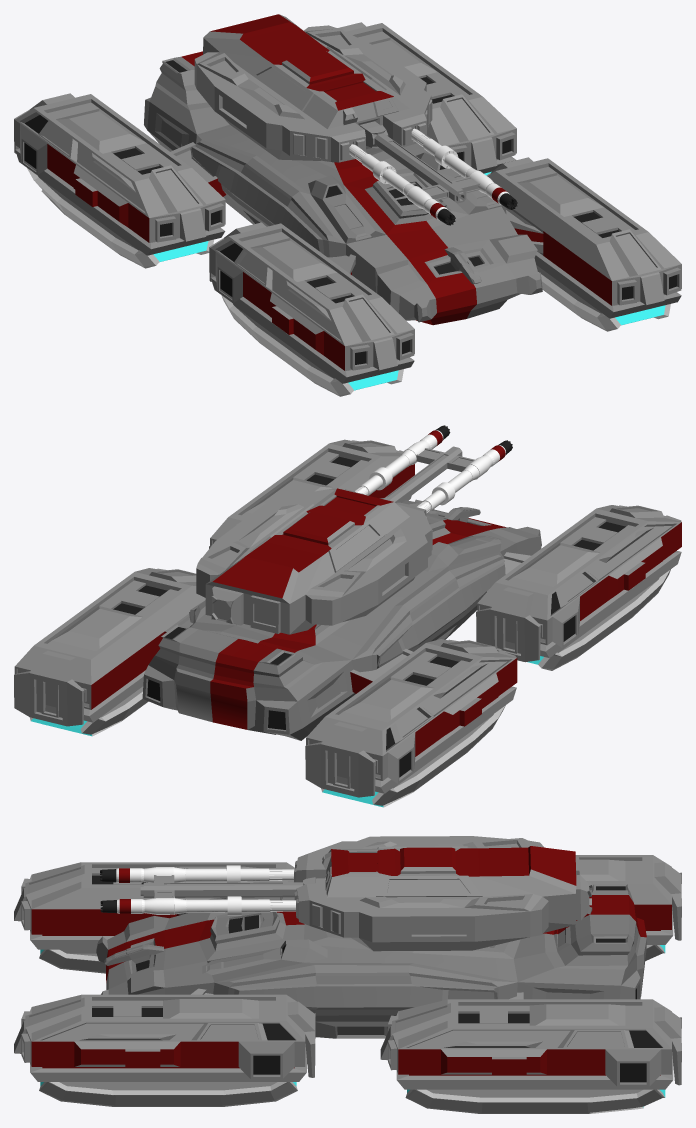
File: Tank.obj
The picture shows the model from 3 angles, top to bottom: view 1: azimuth 30°, elevation 25°; view 2: azimuth 150°, elevation 25°; view 3: azimuth 270°, elevation 25°; orthographic projection.
Visible parts, largest first — view 1: group11 polySurface7, tank_base group11, group11 polySurface14; view 2: group11 polySurface7, tank_base group11, group11 polySurface14; view 3: group11 polySurface7, tank_base group11, group11 polySurface14.
Part boxes in pixels (<box>): group11 polySurface7: <box>14,22,681,396</box>; tank_base group11: <box>144,51,542,325</box>; group11 polySurface14: <box>194,14,517,225</box>; group11 polySurface7: <box>14,439,681,807</box>; tank_base group11: <box>142,498,541,740</box>; group11 polySurface14: <box>196,425,512,634</box>; group11 polySurface7: <box>14,855,681,1113</box>; tank_base group11: <box>96,884,646,1038</box>; group11 polySurface14: <box>100,836,592,951</box>.
Bounding box in the file's own units: 26.01 × 10.7 × 38.02.
